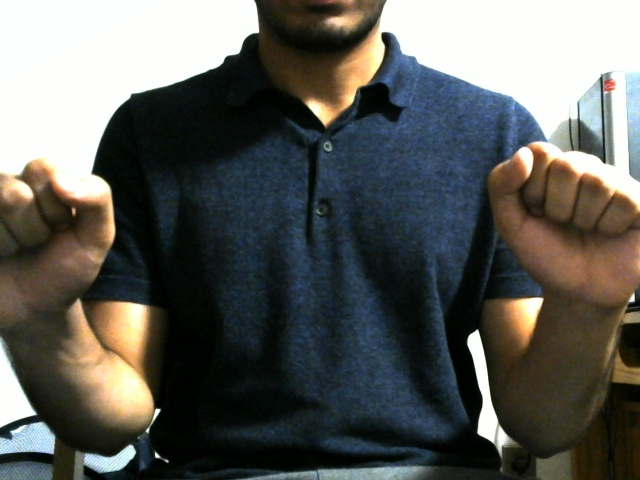can: (1, 124, 640, 452)
